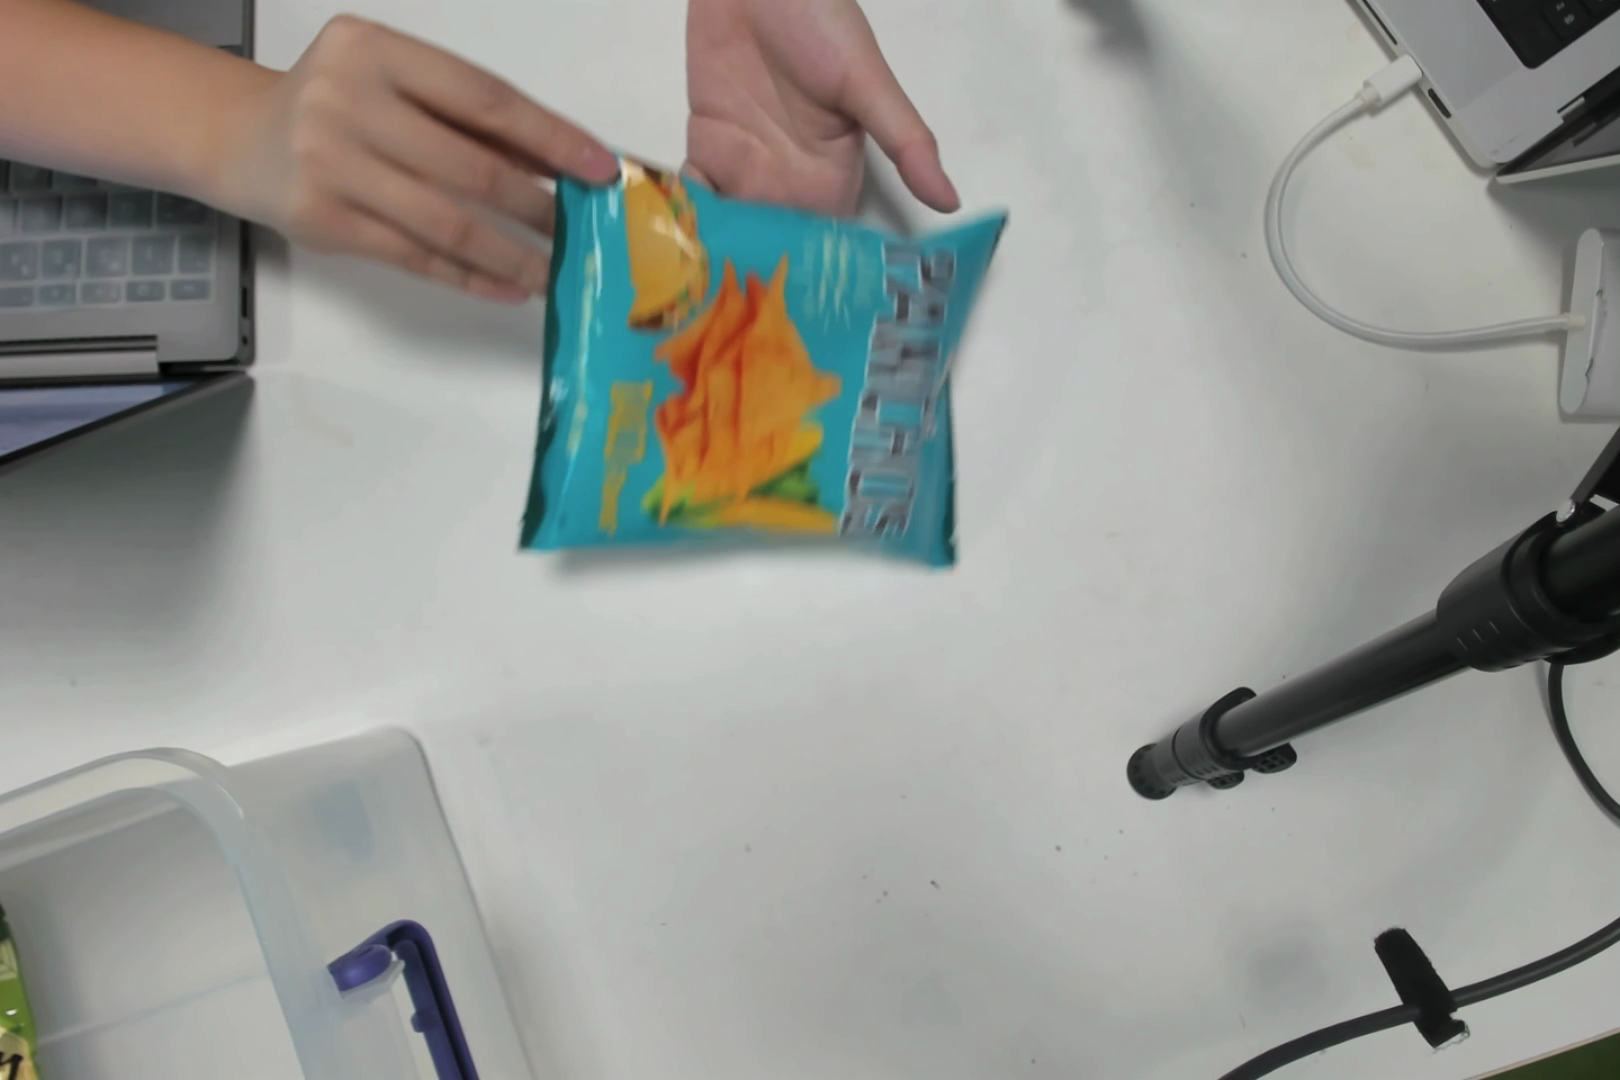PotatochipsKeropok_1-99g_NonHalal_NonHealthy: (565, 183, 967, 560)
